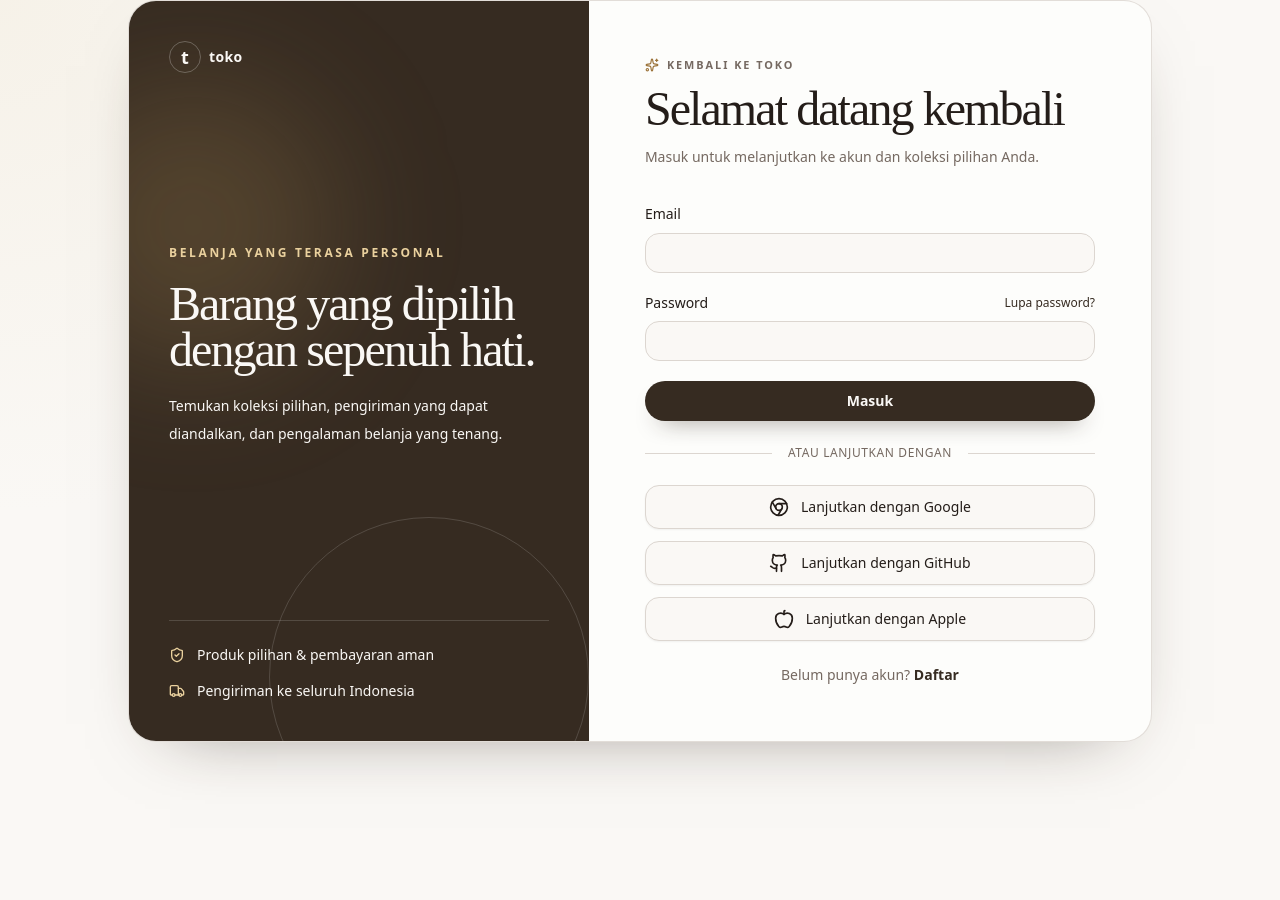
LoginPage › validates required fields
Check: the heading "Selamat datang kembali" is shown, box x1=645 y1=85 x2=1095 y2=133
Click the button with test id "login-submit" at (870, 401), box x1=645 y1=381 x2=1095 y2=421
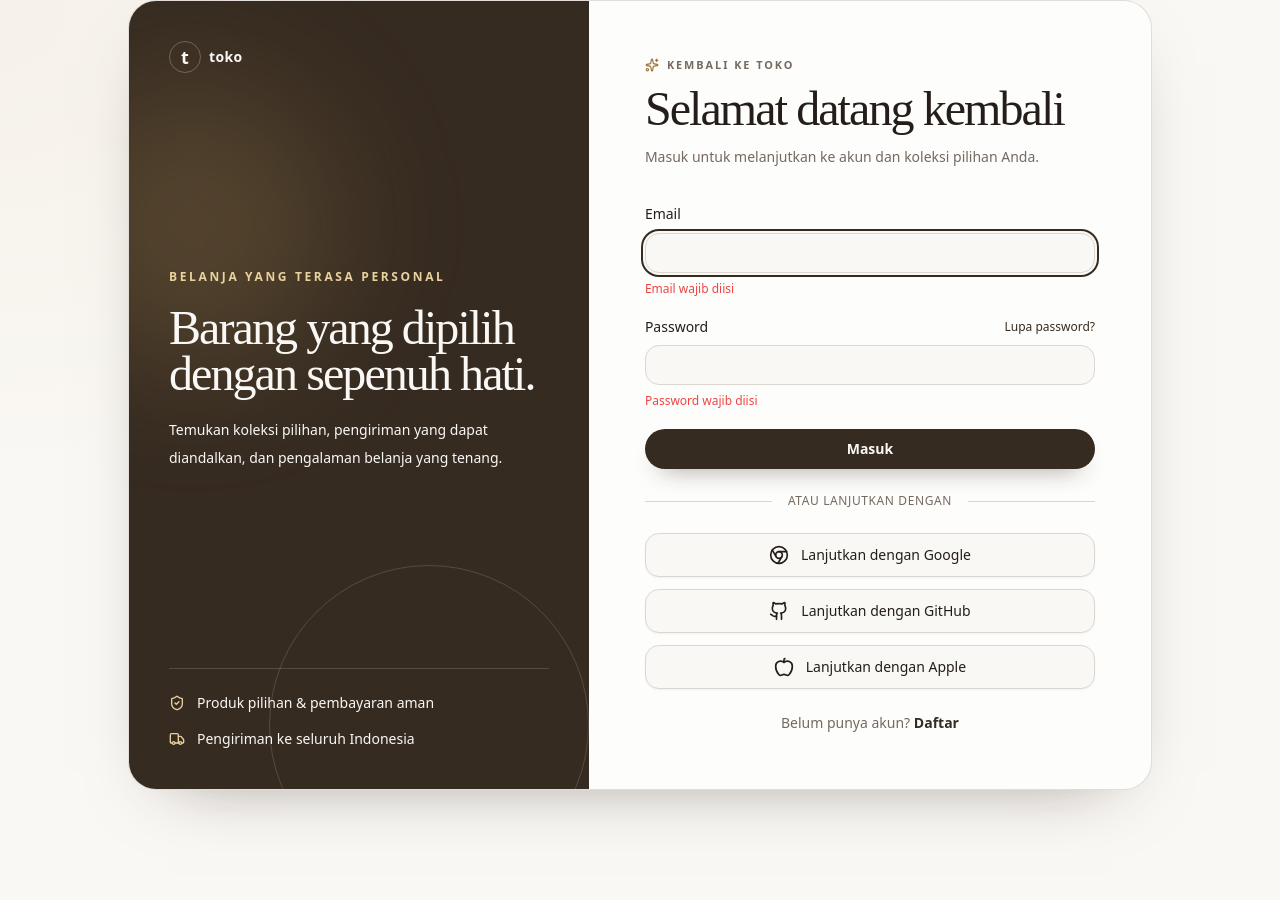
Check: the text "Email wajib diisi" is shown, box x1=645 y1=280 x2=734 y2=297
Check: the text "Password wajib diisi" is shown, box x1=645 y1=392 x2=758 y2=409
